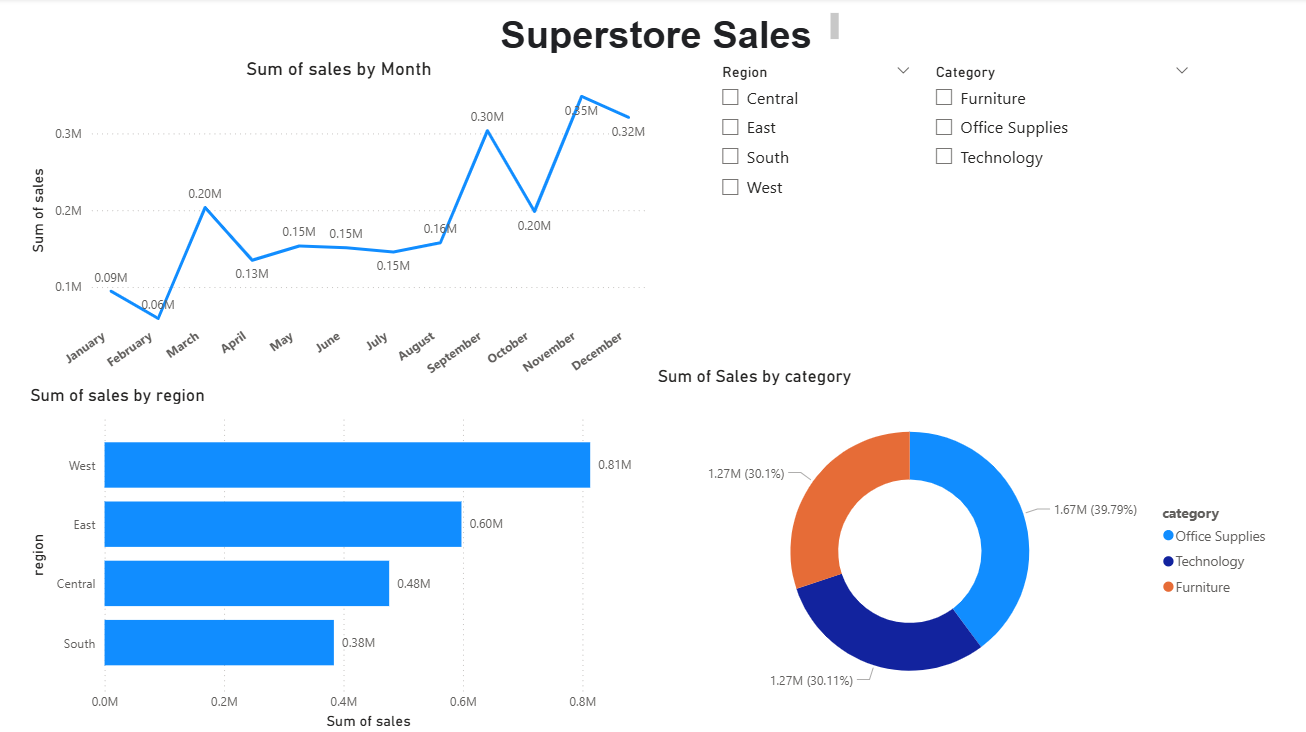

This screenshot's page, from the dashboard's own definition file:
{"tool":"powerbi","page":{"name":"Page 1","canvas":[1280,720],"ordinal":0},"visuals":[{"type":"lineChart","fields":{"Category":["orders.order_date.Variation.Date Hierarchy.Month"],"Y":["Sum(sales (1).sales)"]},"box":[25.7,58.7,613.9,343.6],"z":0},{"type":"barChart","fields":{"Y":["Sum(sales (1).sales)"],"Category":["customers (1).region"]},"box":[26.1,377.4,613.4,343.1],"z":1},{"type":"donutChart","fields":{"Category":["products (2).category"],"Y":["Sum(OrignalDataSet - Superstore.Sales)"]},"box":[639.5,359.5,613.4,343.1],"z":2},{"type":"slicer","fields":{"Values":["OrignalDataSet - Superstore.Region"]},"box":[694.6,58.7,209.1,300.8],"z":3},{"type":"slicer","fields":{"Values":["OrignalDataSet - Superstore.Category"]},"box":[903.7,58.7,272.7,172.4],"z":4},{"type":"textbox","box":[485.5,9.8,341.2,48.9],"z":5}]}

Visuals, with their boxes in screenshot pixels (x1, y1, x2, y2), scaled from the page's 1280x720 canvas onto the 1306x732 screenshot:
lineChart - orders.order_date.Variation.Date Hierarchy.Month x Sum(sales (1).sales): {"left": 26, "top": 60, "right": 653, "bottom": 409}
barChart - Sum(sales (1).sales) x customers (1).region: {"left": 27, "top": 384, "right": 652, "bottom": 731}
donutChart - products (2).category x Sum(OrignalDataSet - Superstore.Sales): {"left": 652, "top": 365, "right": 1278, "bottom": 714}
slicer - OrignalDataSet - Superstore.Region: {"left": 709, "top": 60, "right": 922, "bottom": 365}
slicer - OrignalDataSet - Superstore.Category: {"left": 922, "top": 60, "right": 1200, "bottom": 235}
textbox: {"left": 495, "top": 10, "right": 843, "bottom": 60}
